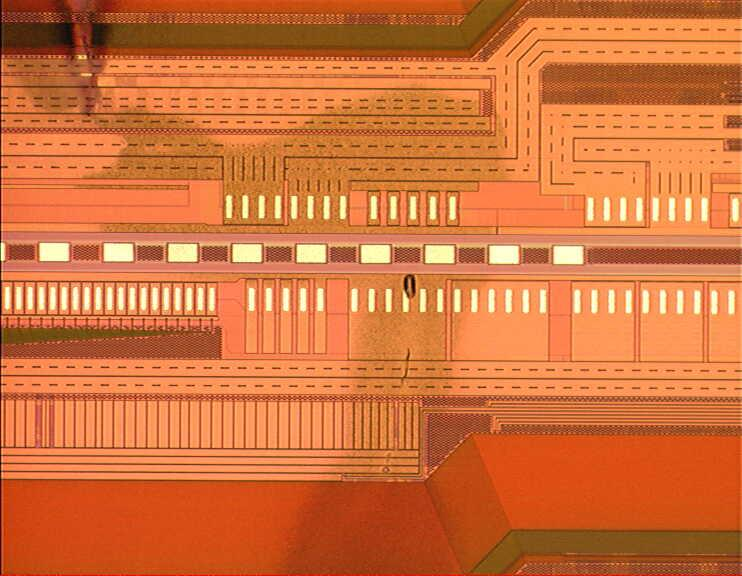COATING BAD: (1, 1, 558, 576)
